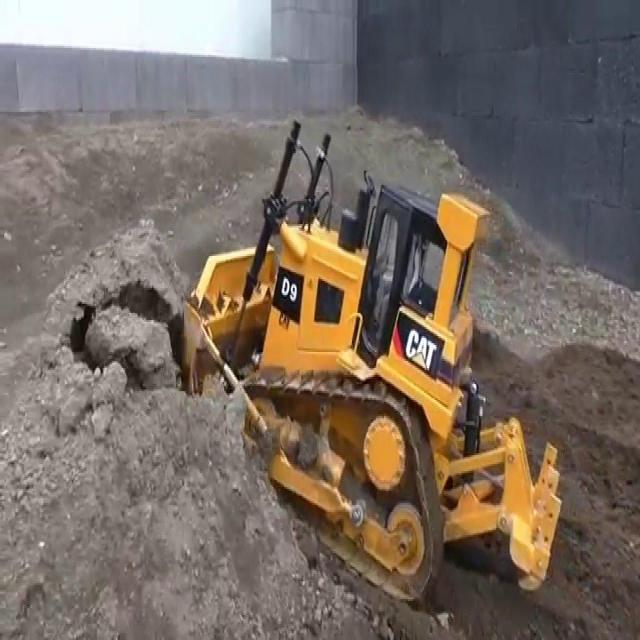Bulldozer: (177, 108, 578, 615)
